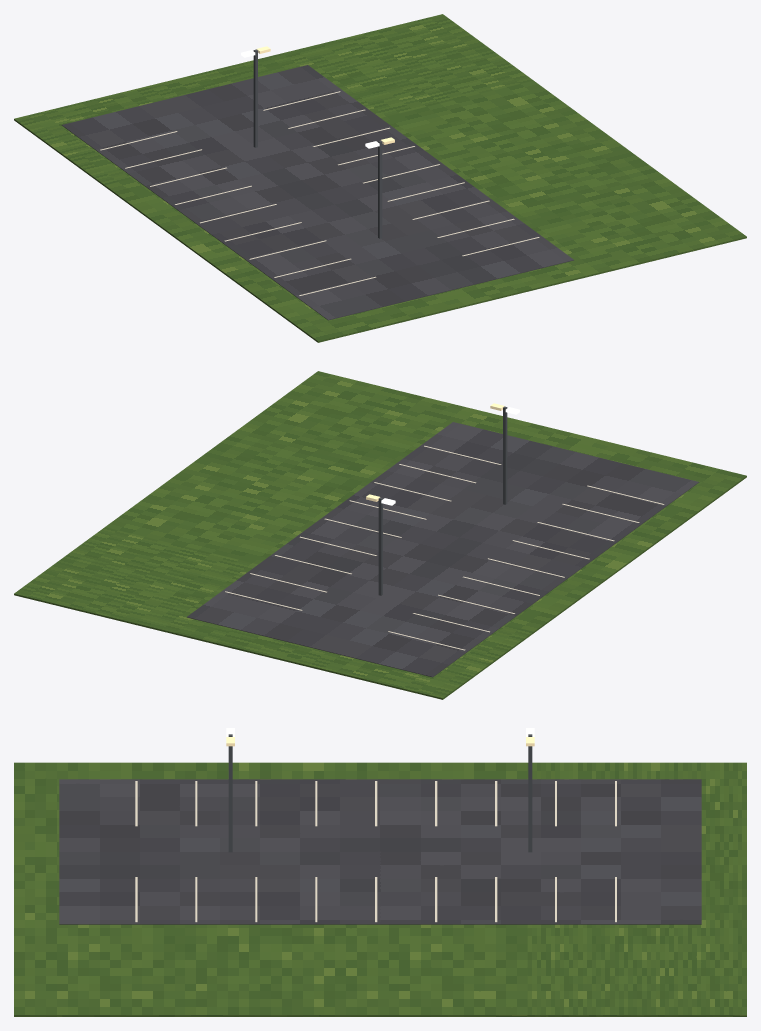
The model's file is structure.glb.
The picture shows the model from 3 angles, top to bottom: view 1: azimuth 30°, elevation 25°; view 2: azimuth 150°, elevation 25°; view 3: azimuth 270°, elevation 25°; orthographic projection. The views are drawn at different scales.
Parts seen in each view (by area): view 1: Box3, Box1, Box2; view 2: Box3, Box1, Box2; view 3: Box3, Box1, Box2, Box22, Box25.
Boxes of the visible parts, box(x1,y1,x2,y2) form: Box3: box(61, 65, 573, 320); Box1: box(105, 80, 746, 342); Box2: box(14, 14, 533, 186); Box3: box(187, 422, 699, 677); Box1: box(105, 371, 746, 632); Box2: box(14, 527, 533, 699); Box3: box(59, 779, 701, 924); Box1: box(14, 762, 527, 1016); Box2: box(527, 762, 746, 1016); Box22: box(528, 734, 532, 852); Box25: box(228, 734, 232, 852).
Bounding box in the file's own units: 27.88 × 6.13 × 34.24.
6 materials, 2 textured.
